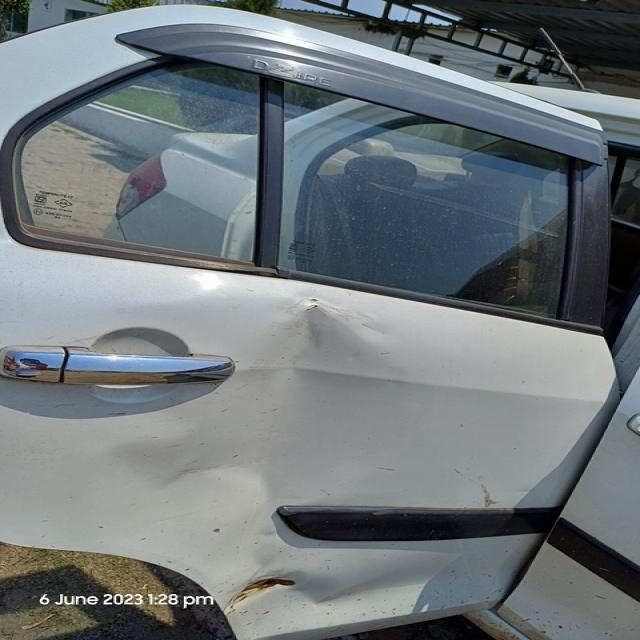damage: (178, 289, 400, 497), (214, 570, 303, 608)
